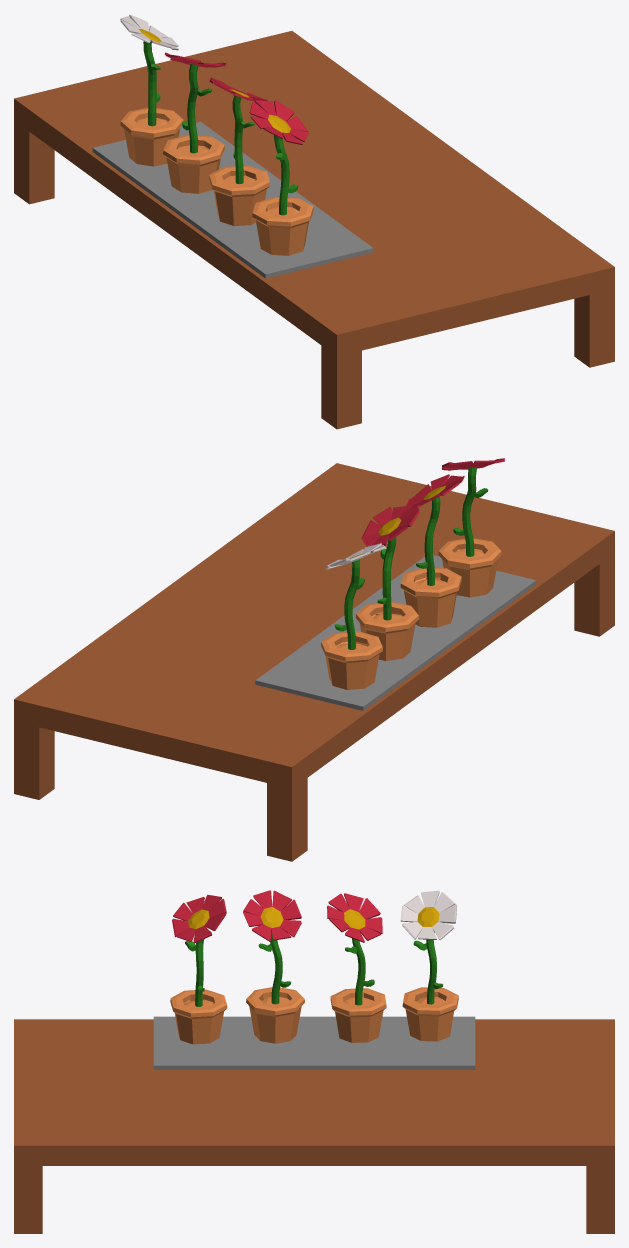
The model's file is biology-table-task.fbx.
3 views of the same model, one above another, from view 1: azimuth 30°, elevation 25°; view 2: azimuth 150°, elevation 25°; view 3: azimuth 270°, elevation 25° (orthographic). The views are drawn at different scales.
Parts seen in each view (by area): view 1: Plane, Plane.001, flower-red, flower-white, flower-red.002, flower-red.001; view 2: Plane, Plane.001, flower-red.002, flower-red.001, flower-white, flower-red; view 3: Plane, Plane.001, flower-red.001, flower-white, flower-red.002, flower-red.
Boxes of the visible parts, x1=… form: Plane: x1=14, y1=31, x2=614, y2=429; Plane.001: x1=92, y1=121, x2=373, y2=278; flower-red: x1=249, y1=100, x2=313, y2=255; flower-white: x1=120, y1=14, x2=183, y2=166; flower-red.002: x1=163, y1=52, x2=226, y2=193; flower-red.001: x1=209, y1=77, x2=270, y2=225; Plane: x1=14, y1=463, x2=614, y2=861; Plane.001: x1=255, y1=555, x2=536, y2=710; flower-red.002: x1=355, y1=504, x2=419, y2=660; flower-red.001: x1=400, y1=474, x2=464, y2=627; flower-white: x1=321, y1=543, x2=386, y2=689; flower-red: x1=438, y1=458, x2=504, y2=597; Plane: x1=14, y1=1019, x2=614, y2=1233; Plane.001: x1=153, y1=1016, x2=475, y2=1069; flower-red.001: x1=243, y1=890, x2=304, y2=1043; flower-white: x1=400, y1=890, x2=458, y2=1041; flower-red.002: x1=327, y1=893, x2=386, y2=1042; flower-red: x1=170, y1=894, x2=227, y2=1044.
Bounding box in the file's own units: 200 × 166 × 402.
